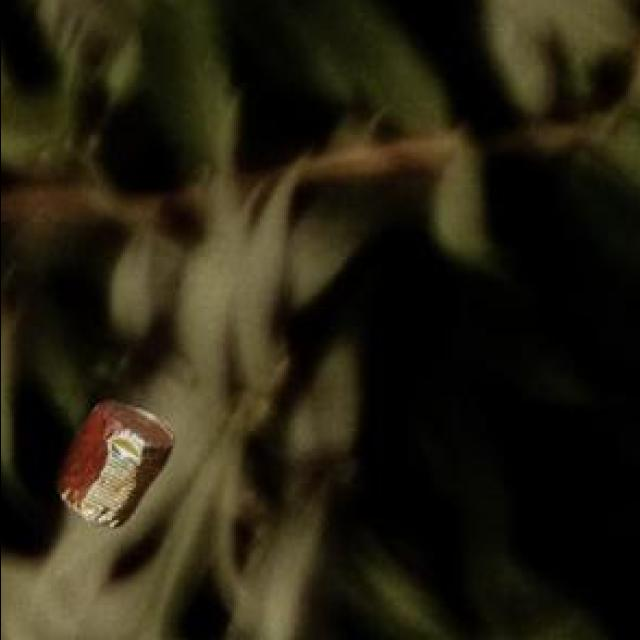logam: (58, 404, 169, 530)
